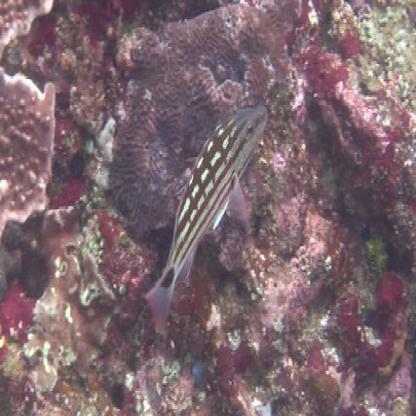Lutjanidae -Snappers-: (137, 91, 270, 346)
